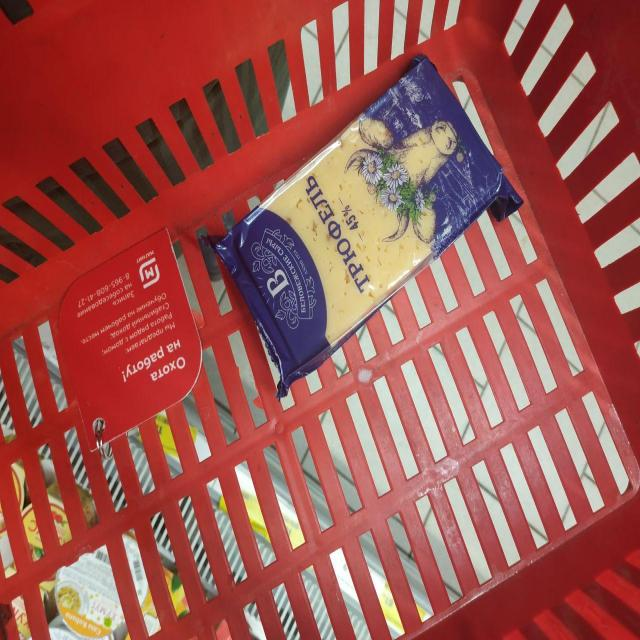Cheese: (206, 57, 522, 398)
